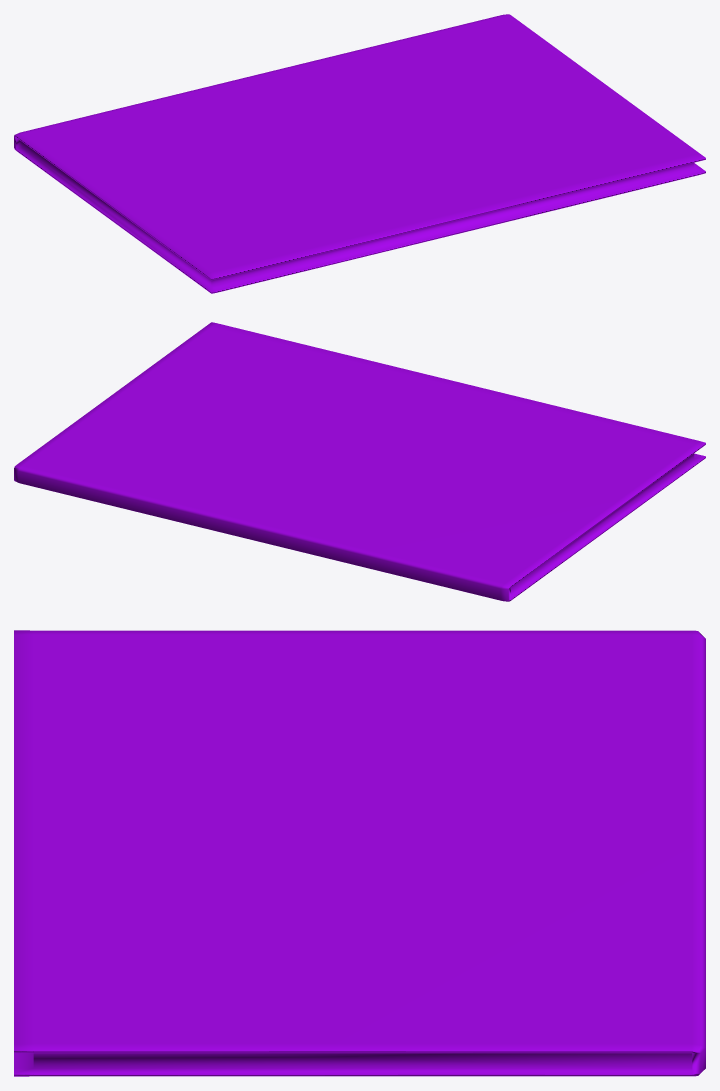
The model's file is Comic.fbx.
The picture shows the model from 3 angles, top to bottom: view 1: azimuth 30°, elevation 25°; view 2: azimuth 150°, elevation 25°; view 3: azimuth 270°, elevation 25°; orthographic projection. The views are drawn at different scales.
Parts seen in each view (by area): view 1: Comic; view 2: Comic; view 3: Comic.
Part boxes in pixels (box(x1,y1,x2,y2)): Comic: box(14, 14, 705, 293); Comic: box(14, 322, 705, 601); Comic: box(14, 630, 705, 1076).
Size of the model in its own units: 231 by 7.28 by 161.
